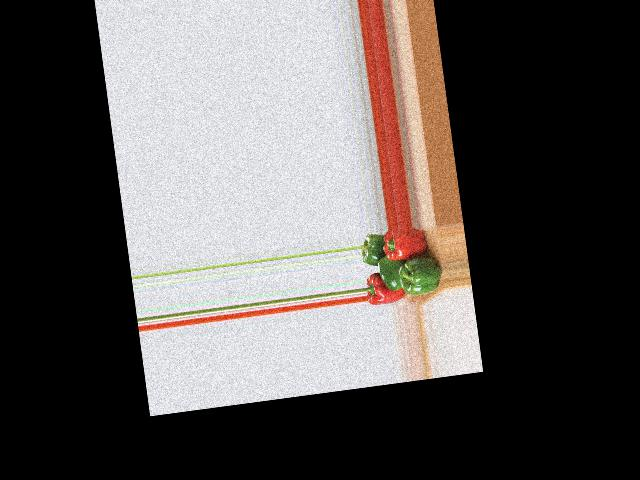bell_pepper: (382, 226, 432, 263)
